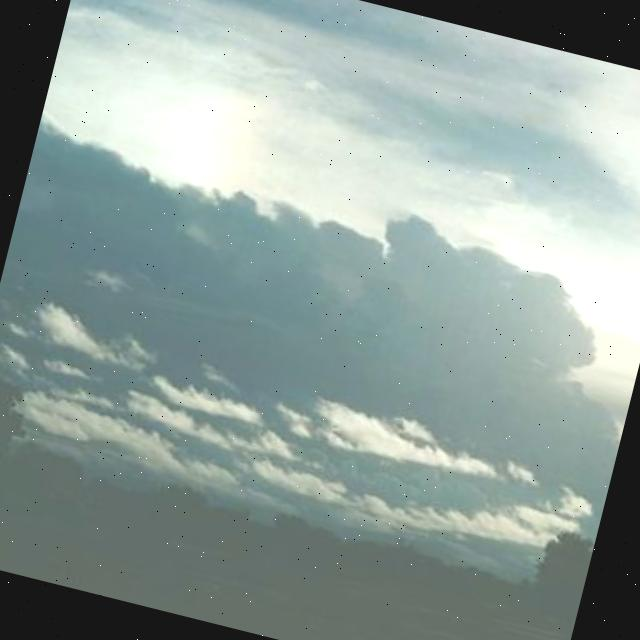St: (1, 1, 640, 610)
